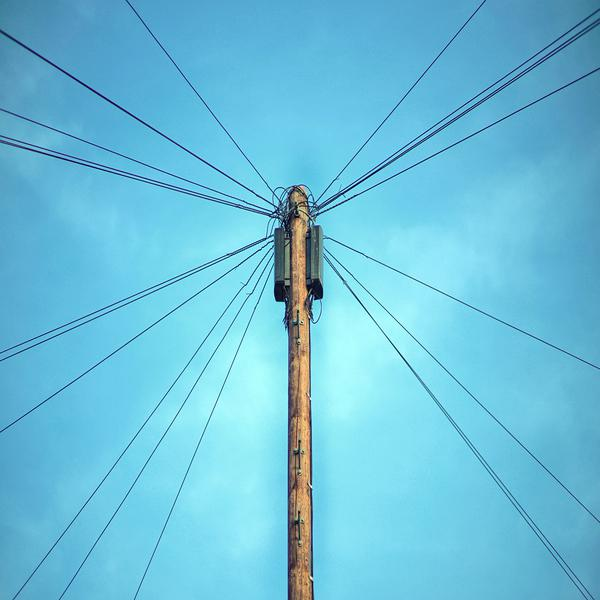utility_pole: (240, 168, 352, 339)
